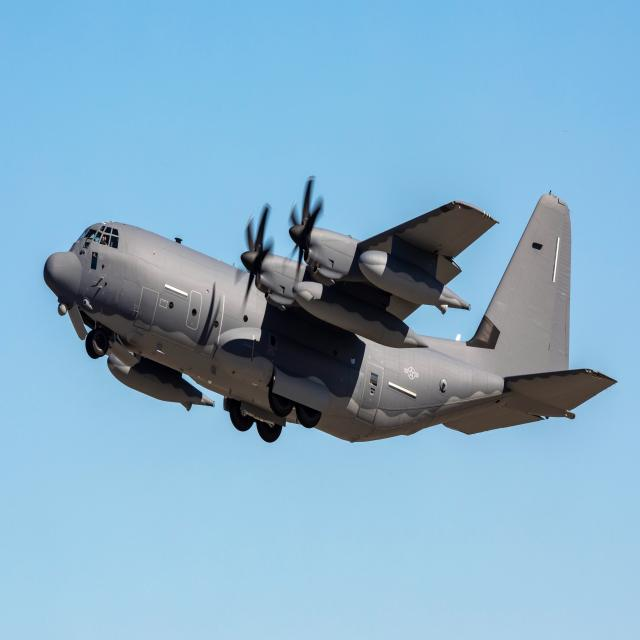C130: (18, 168, 639, 487)
